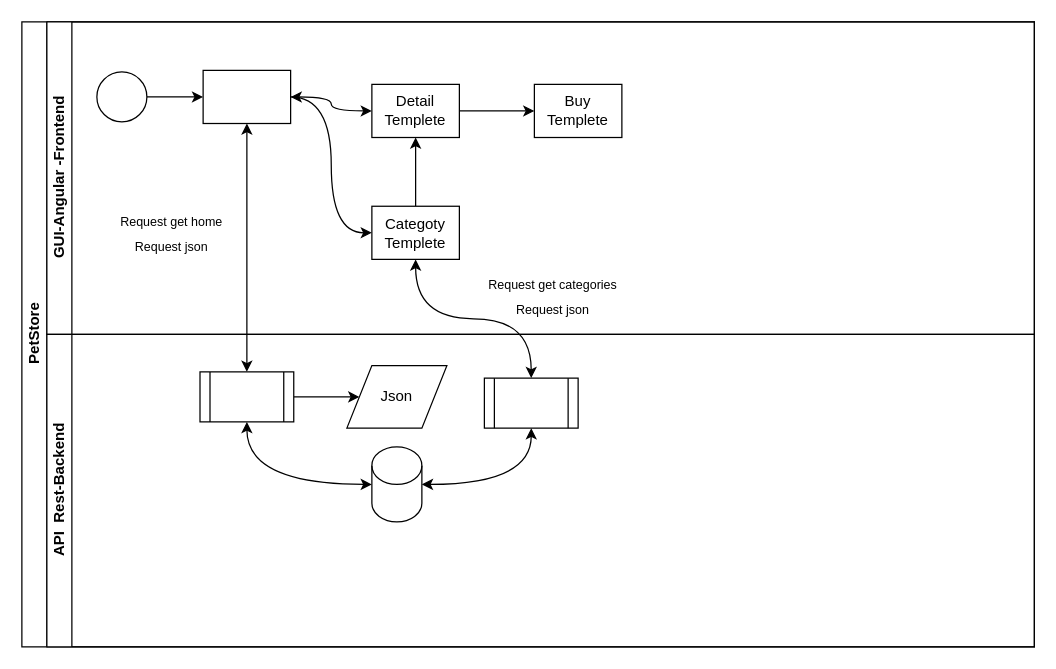
Image size: 1056x669. Some labels were removed from this diagram. The shapes that lost their labels are listed below. From the top down, each one's centre as x and y in pixels, then its label:
At point 121,96: "Start".
At point 246,96: "Home".
At point 246,396: "Home controller".
At point 530,402: "Category controller".
